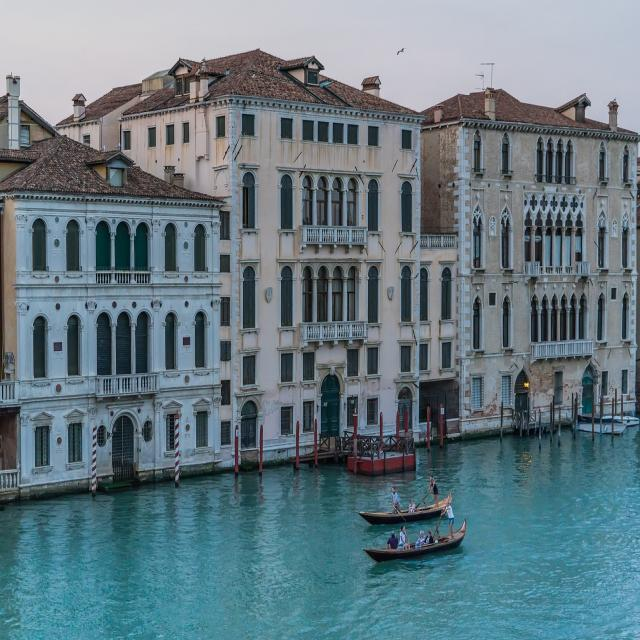boat: (350, 474, 469, 534), (354, 514, 477, 571)
